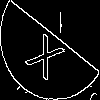X: (24, 24, 71, 82)
